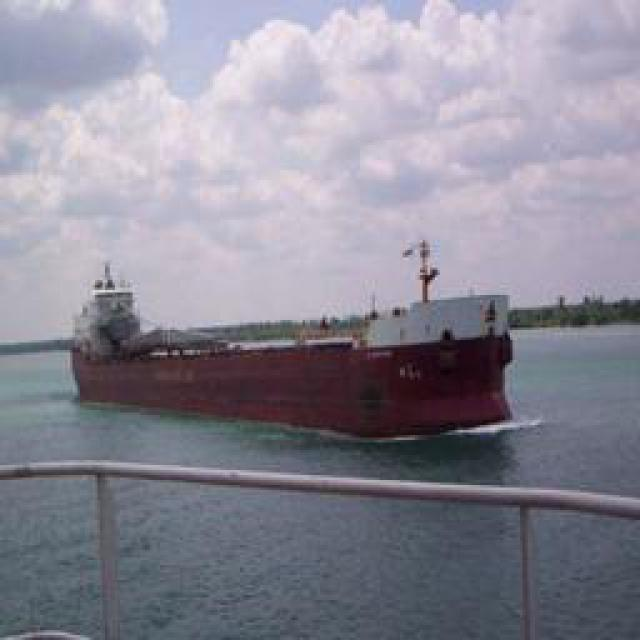Ship: (75, 252, 508, 440)
